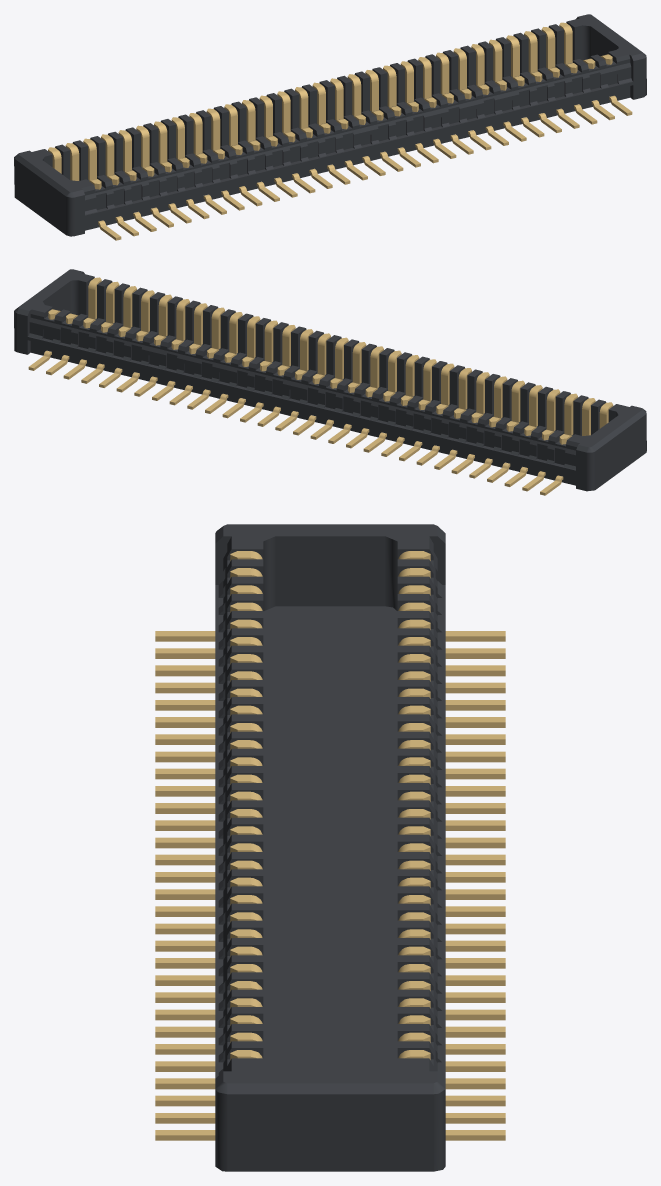
The model's file is kc-molex_slimstack_55560-0601_2x30_p0.50mm_vertical.glb.
The picture shows the model from 3 angles, top to bottom: view 1: azimuth 30°, elevation 25°; view 2: azimuth 150°, elevation 25°; view 3: azimuth 270°, elevation 25°; orthographic projection. The views are drawn at different scales.
Visible parts, largest first — view 1: 0.08333333333333333_0.08333333333333333_0.08333333333333333_, 0.75_0.5_0.25_0.9; view 2: 0.08333333333333333_0.08333333333333333_0.08333333333333333_, 0.75_0.5_0.25_0.9; view 3: 0.08333333333333333_0.08333333333333333_0.08333333333333333_, 0.75_0.5_0.25_0.9.
Part boxes in pixels (box(x1,y1,x2,y2)): 0.08333333333333333_0.08333333333333333_0.08333333333333333_: box(14, 14, 646, 236); 0.75_0.5_0.25_0.9: box(48, 22, 632, 240); 0.08333333333333333_0.08333333333333333_0.08333333333333333_: box(14, 269, 646, 491); 0.75_0.5_0.25_0.9: box(28, 277, 613, 495); 0.08333333333333333_0.08333333333333333_0.08333333333333333_: box(215, 524, 445, 1171); 0.75_0.5_0.25_0.9: box(155, 551, 505, 1140).
Size of the model in its own units: 1.64 by 0.1151 by 0.43.
